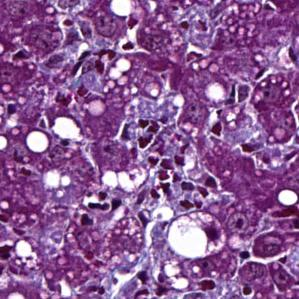ballooning: (165, 210, 228, 260)
